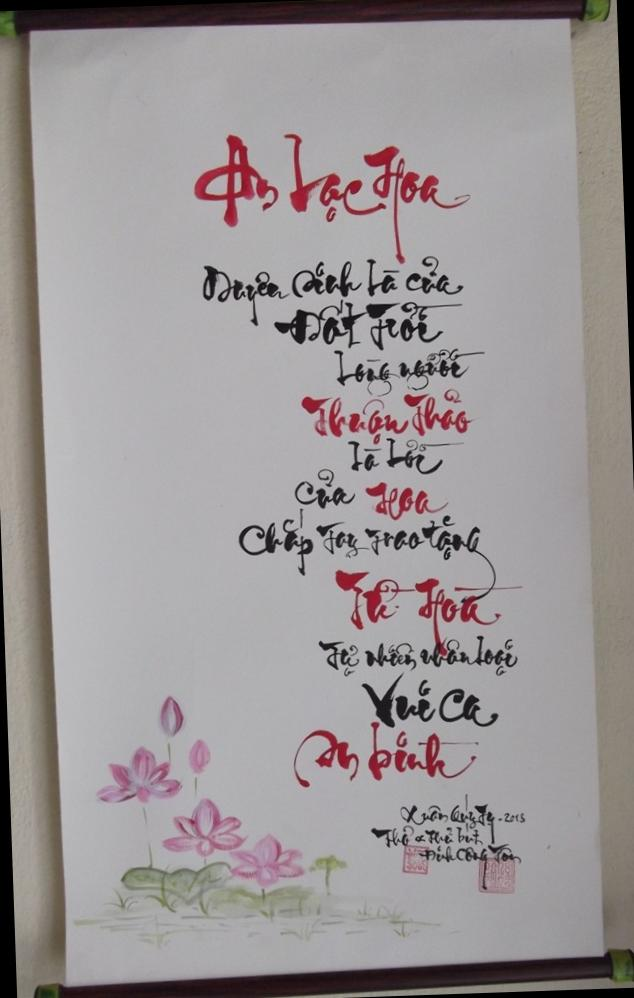text: (180, 116, 479, 276), (197, 250, 470, 335), (238, 504, 491, 584), (331, 561, 502, 663), (284, 716, 484, 796), (271, 289, 471, 358), (314, 626, 524, 688), (298, 382, 479, 452), (293, 458, 454, 529), (357, 666, 503, 739), (330, 338, 488, 396), (410, 837, 528, 899), (398, 792, 532, 834), (344, 432, 450, 482), (370, 820, 490, 854)
